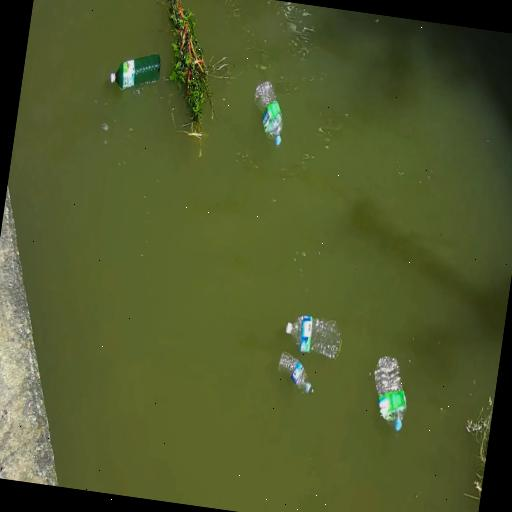plastic: (366, 352, 416, 434), (278, 312, 346, 360), (248, 80, 290, 147), (108, 46, 164, 95), (272, 354, 318, 398)
twig: (151, 0, 229, 131)
